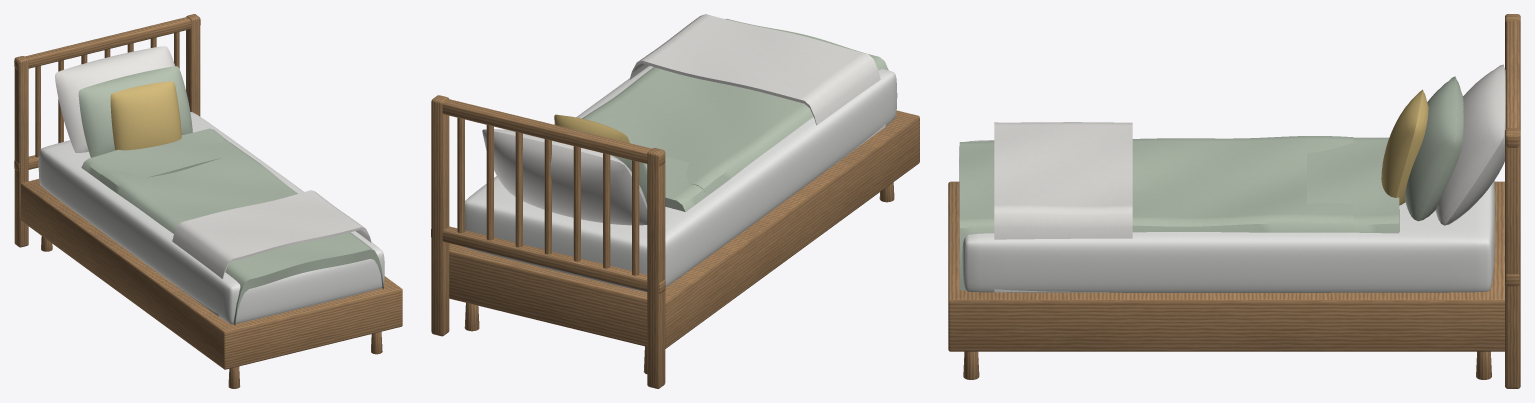
Rendered from cama-1p-blanqueada-v2.gltf.
The picture shows the model from 3 angles, left to right: view 1: azimuth 30°, elevation 25°; view 2: azimuth 150°, elevation 25°; view 3: azimuth 270°, elevation 25°; orthographic projection. The views are drawn at different scales.
Visible parts, largest first — view 1: cama-1p-blanqueada__w_blanqueada_x, cama-1p-blanqueada__f_salvia, cama-1p-blanqueada__f_colchon, cama-1p-blanqueada__f_lino_blanco, cama-1p-blanqueada__w_blanqueada, cama-1p-blanqueada__f_lino_mostaza; view 2: cama-1p-blanqueada__w_blanqueada_x, cama-1p-blanqueada__f_lino_blanco, cama-1p-blanqueada__f_colchon, cama-1p-blanqueada__f_salvia, cama-1p-blanqueada__w_blanqueada, cama-1p-blanqueada__f_lino_mostaza; view 3: cama-1p-blanqueada__w_blanqueada_x, cama-1p-blanqueada__f_colchon, cama-1p-blanqueada__f_salvia, cama-1p-blanqueada__f_lino_blanco, cama-1p-blanqueada__w_blanqueada, cama-1p-blanqueada__f_lino_mostaza.
Part boxes in pixels (<box>): cama-1p-blanqueada__w_blanqueada_x: <box>14,17,402,369</box>; cama-1p-blanqueada__f_salvia: <box>78,66,383,325</box>; cama-1p-blanqueada__f_colchon: <box>38,112,384,324</box>; cama-1p-blanqueada__f_lino_blanco: <box>55,46,371,316</box>; cama-1p-blanqueada__w_blanqueada: <box>14,14,382,388</box>; cama-1p-blanqueada__f_lino_mostaza: <box>110,81,181,150</box>; cama-1p-blanqueada__w_blanqueada_x: <box>431,99,919,348</box>; cama-1p-blanqueada__f_lino_blanco: <box>482,14,885,225</box>; cama-1p-blanqueada__f_colchon: <box>464,66,897,292</box>; cama-1p-blanqueada__f_salvia: <box>576,18,896,211</box>; cama-1p-blanqueada__w_blanqueada: <box>431,95,894,388</box>; cama-1p-blanqueada__f_lino_mostaza: <box>554,114,629,142</box>; cama-1p-blanqueada__w_blanqueada_x: <box>948,21,1519,351</box>; cama-1p-blanqueada__f_colchon: <box>962,140,1494,292</box>; cama-1p-blanqueada__f_salvia: <box>959,76,1463,290</box>; cama-1p-blanqueada__f_lino_blanco: <box>994,64,1505,292</box>; cama-1p-blanqueada__w_blanqueada: <box>963,14,1520,388</box>; cama-1p-blanqueada__f_lino_mostaza: <box>1381,89,1428,205</box>.
Bounding box in the file's own units: 0.9999 × 0.9801 × 1.99.
Materials: 6 (6 with a texture image).
